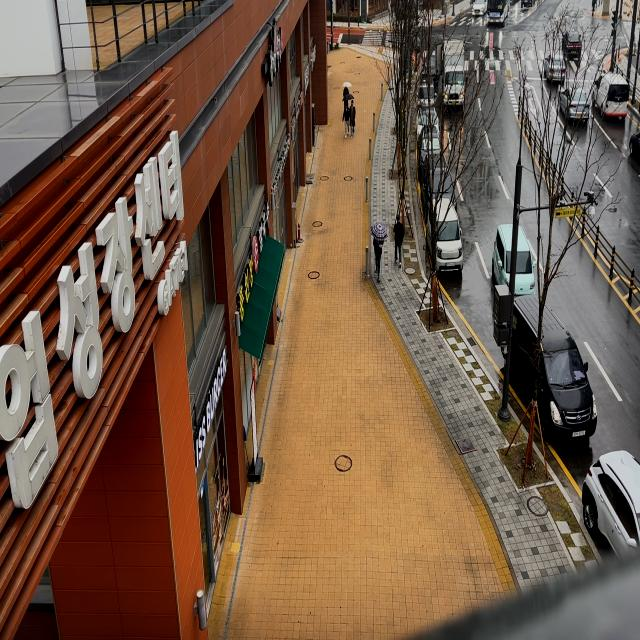Bus: (486, 0, 508, 27)
Car: (502, 291, 598, 443), (581, 451, 640, 560), (489, 219, 538, 302), (428, 192, 463, 272), (589, 64, 633, 125), (420, 146, 462, 209), (559, 84, 589, 129), (559, 19, 586, 63), (417, 126, 444, 163), (415, 106, 445, 139), (542, 51, 569, 86), (414, 85, 438, 111), (469, 0, 486, 21)
Truck: (436, 35, 469, 113)
